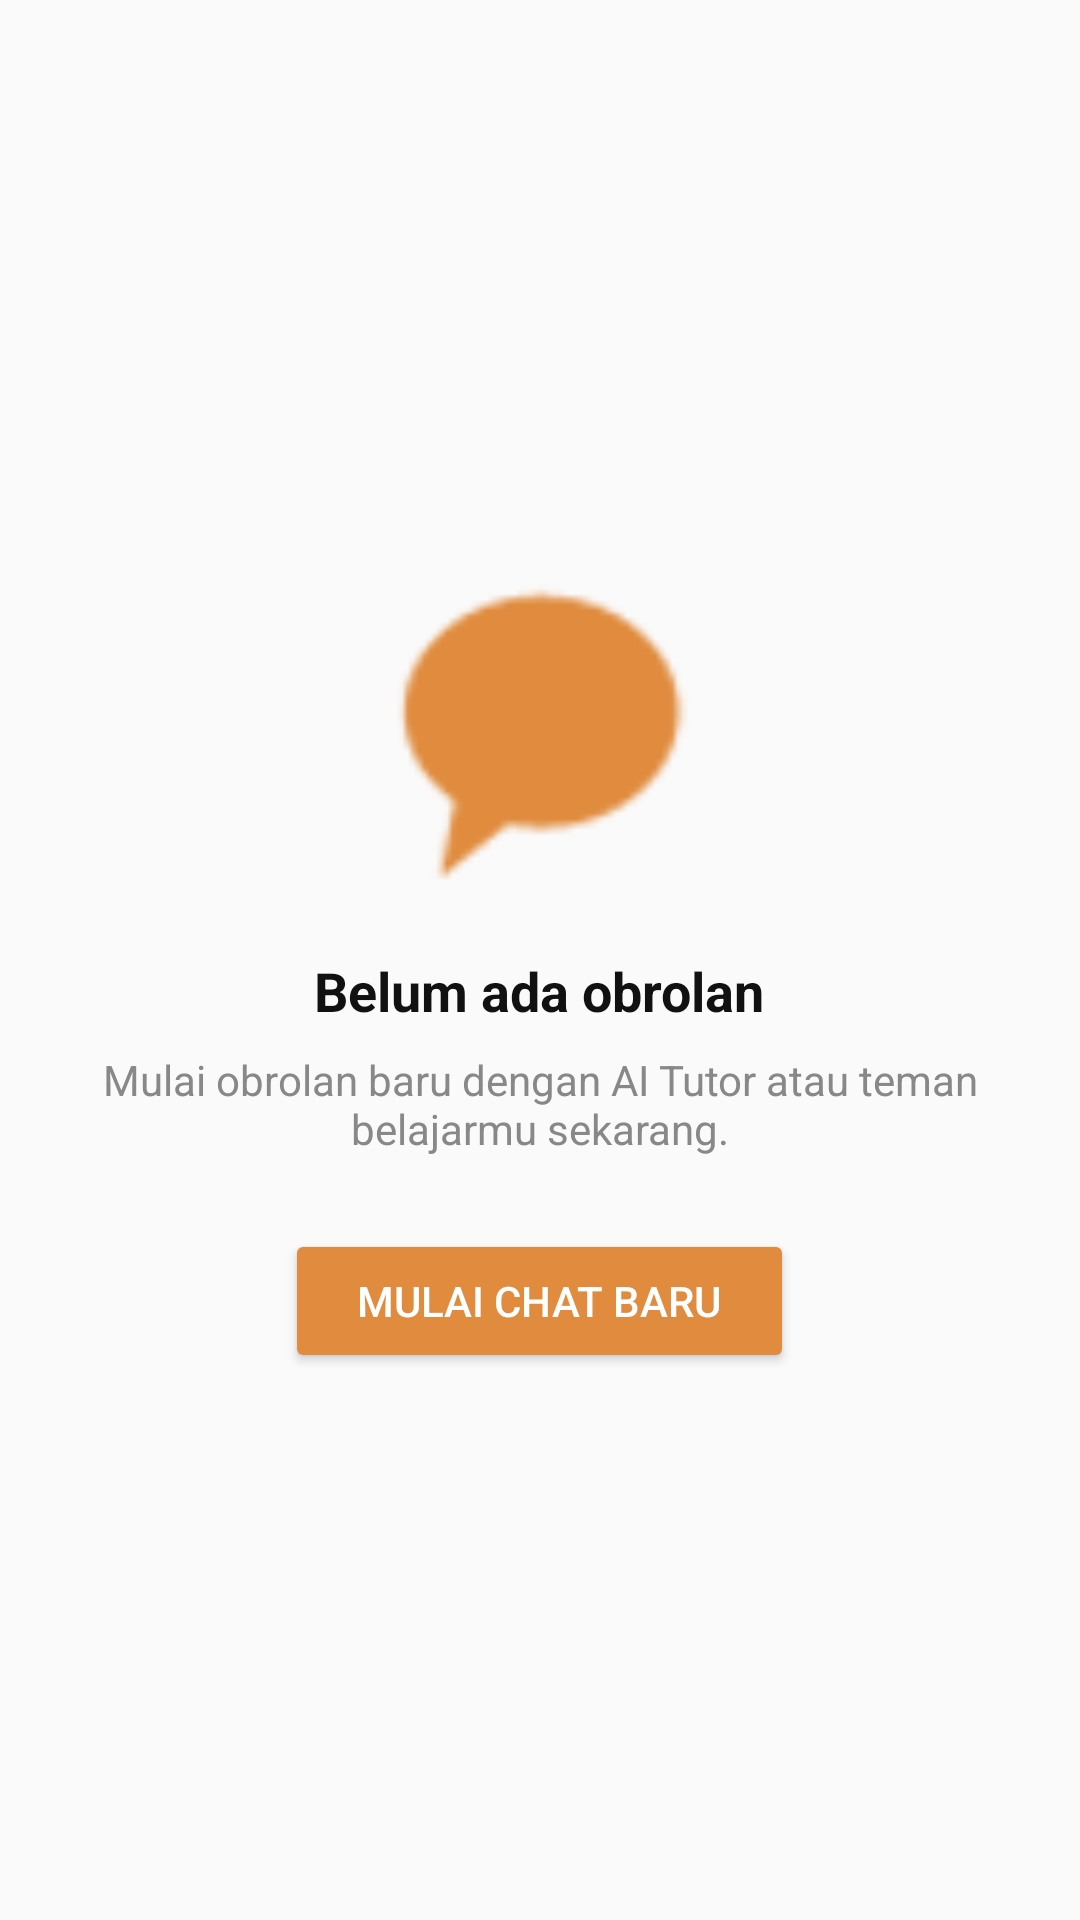

Point at icon controls on the screen. Image size 1080px x 1920px, points as (x,y).
sym action chat: (542,734)
